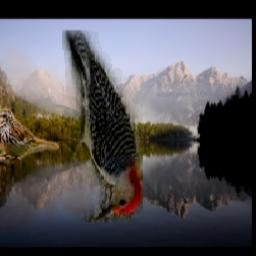Sparrow: (0, 109, 58, 165)
Woodpecker: (61, 31, 142, 223)
